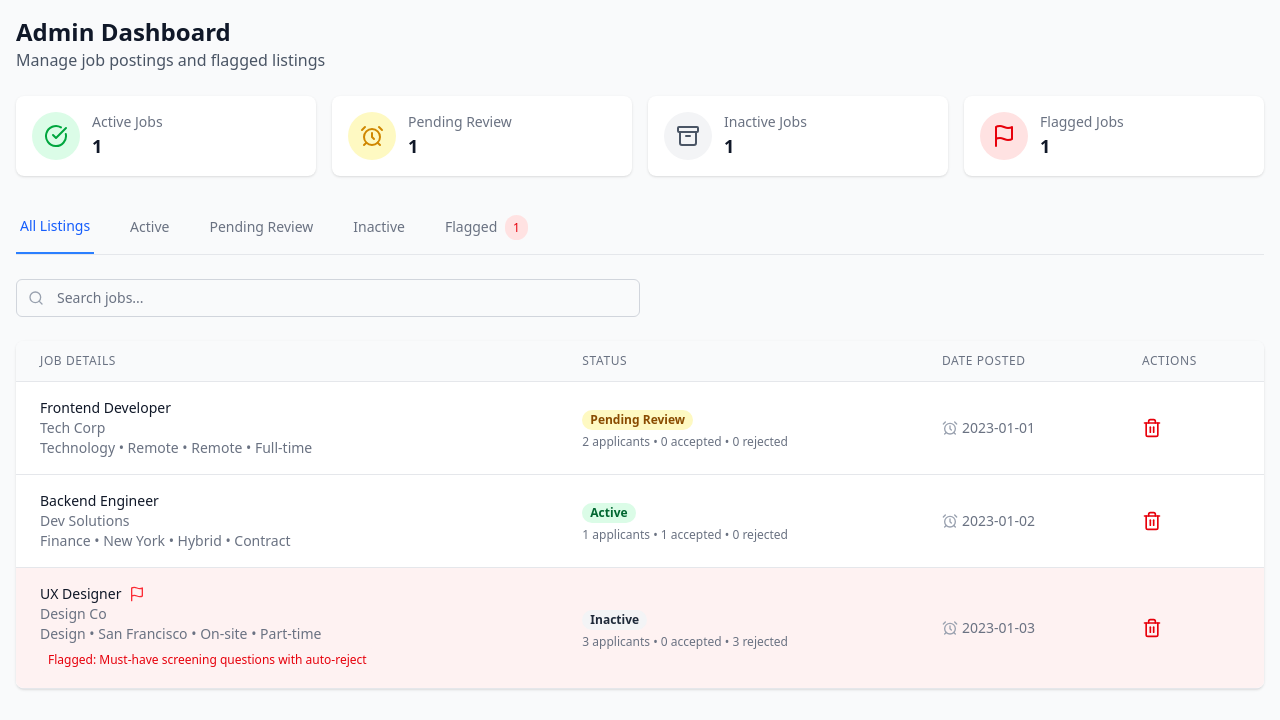
JobListing Component › filters jobs by search term
This screenshot has width=1280, height=720.
Expected: the text "Frontend Developer" is shown, [40,398,171,417]
# Test title search
Type "frontend" into the field with placeholder "Search jobs..." at (328, 298), box [16,279,640,317]
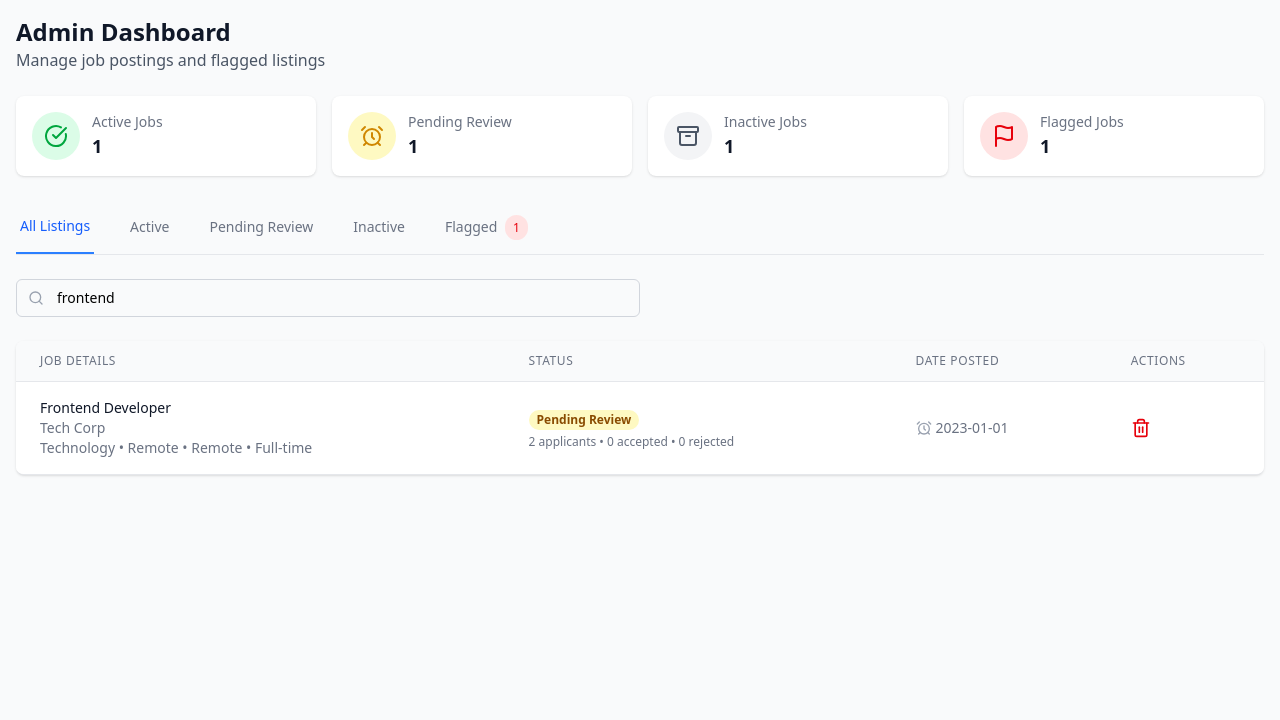
Expected: the text "Frontend Developer" is shown, [40,398,171,417]
Expected: the text "Backend Engineer" is gone
Expected: the text "UX Designer" is gone
# Test industry search
Replace the text in the field with placeholder "Search jobs..." with "design" at (328, 298), box [16,279,640,317]
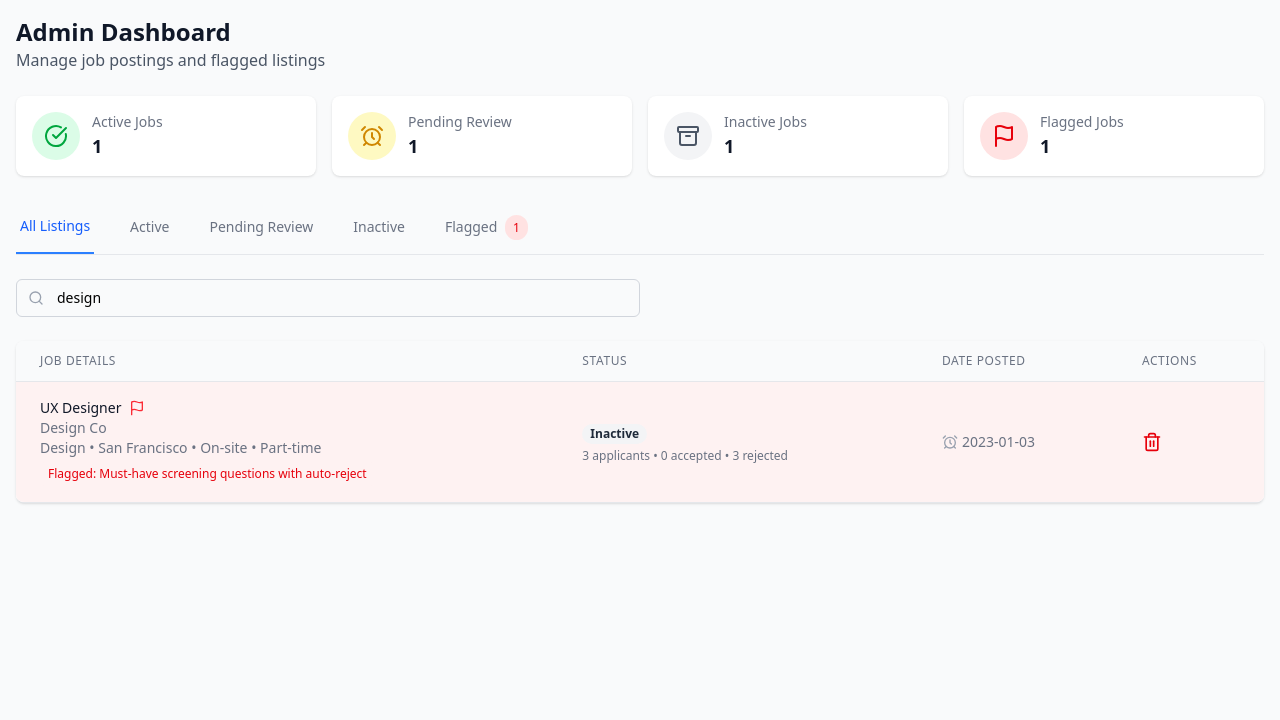
Expected: the text "Backend Engineer" is not shown
Expected: the text "UX Designer" is shown, [40,398,146,417]
Expected: the text "Frontend Developer" is gone
# Test empty results
Replace the text in the field with placeholder "Search jobs..." with "nonexistent" at (328, 298), box [16,279,640,317]
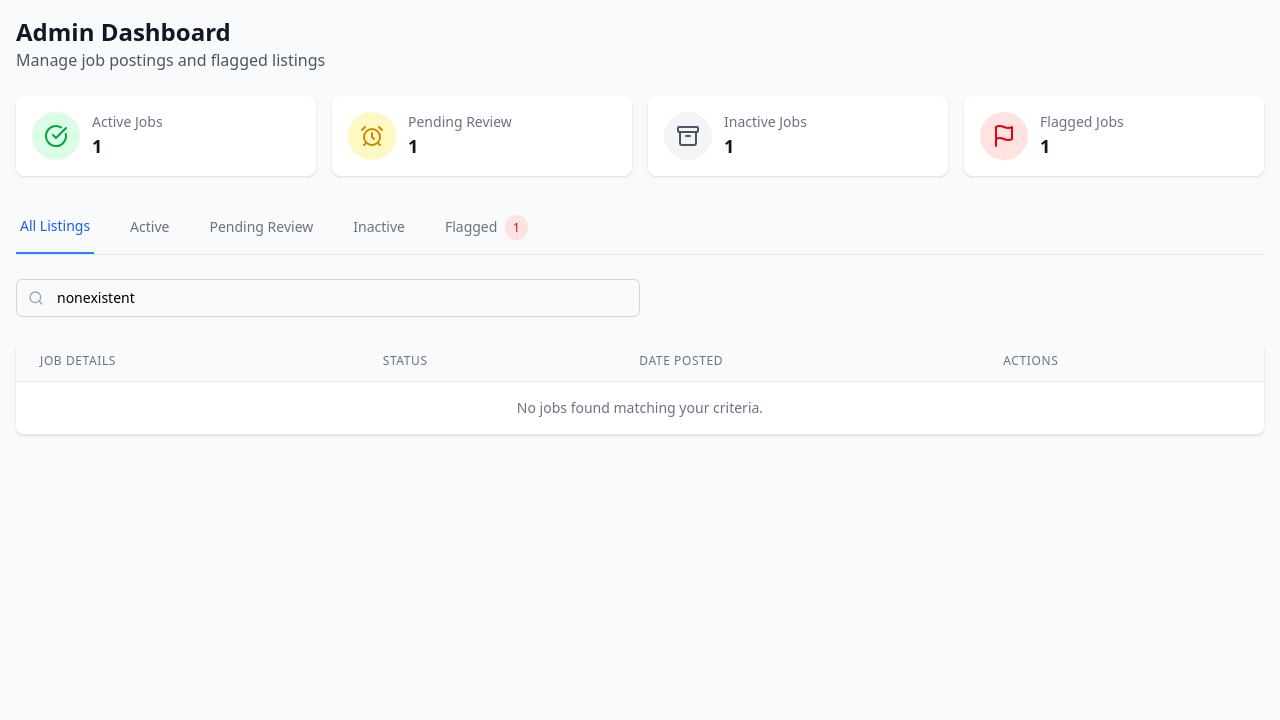
Expected: the text "No jobs found matching your criteria." is shown, [16,382,1264,434]
